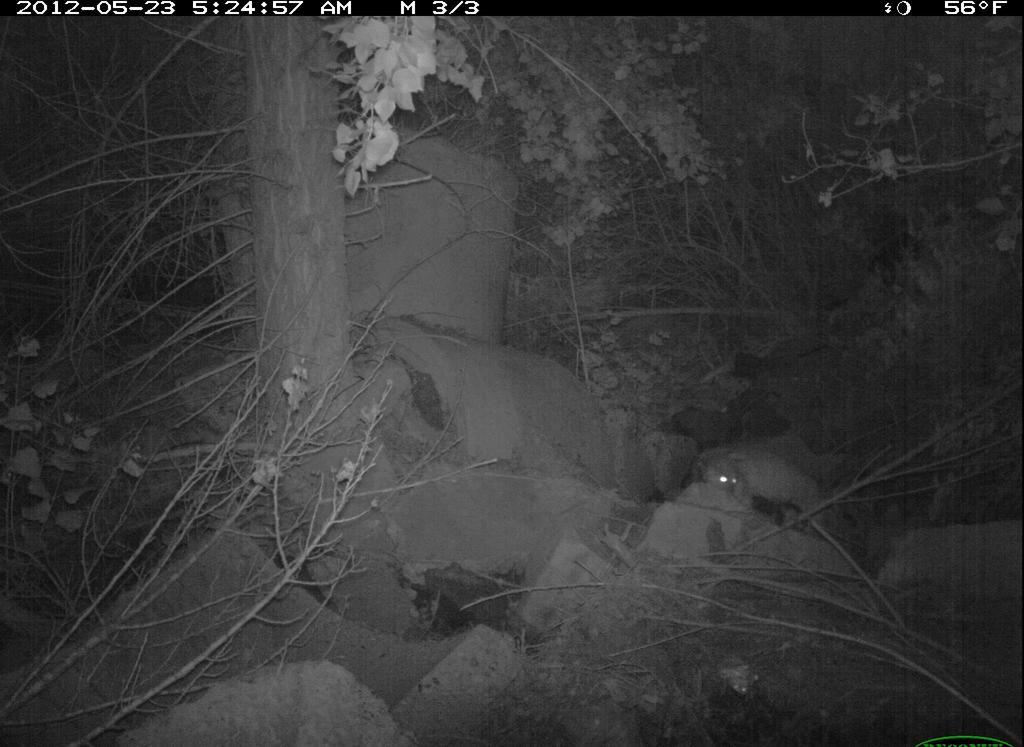bobcat: (669, 445, 859, 552)
